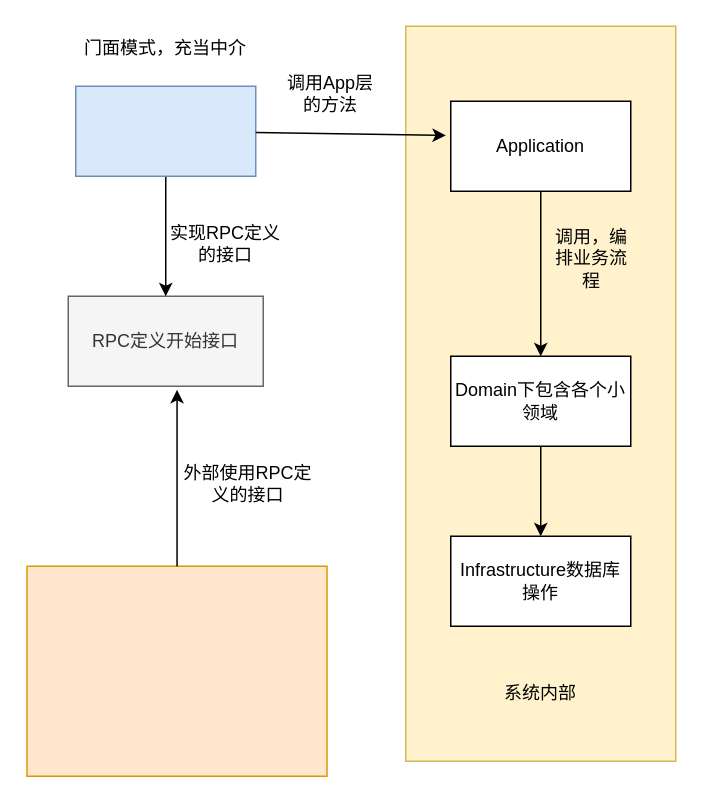
The diagram is 702 pixels wide and 803 high, and some of its shapes have lost their labels. The shapes that lost their labels are listed below. From the top down, each one's centre as x and y in pixels, then its label:
(x=165, y=130): Interface
(x=176, y=670): 外部系统
